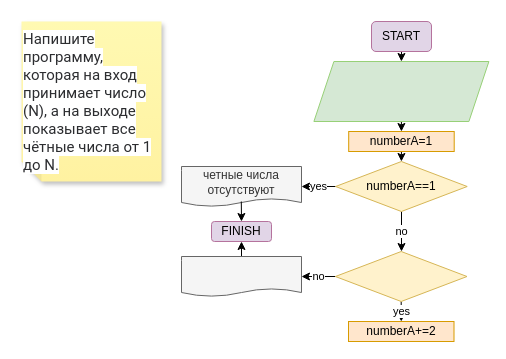
Some shapes in this 506 by 359 pixel diagram are drawn without their labels. The centre of each missing label's shape, as x and y in pixels:
numberA<numberB: the point at 400,276
введите целое положительное число numberB: the point at 401,91
четные числа numberA+1: the point at 241,276
